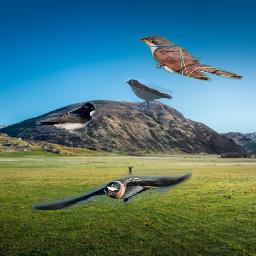Crow: (124, 78, 173, 110)
Cuckoo: (137, 33, 245, 85)
Swallow: (32, 169, 192, 210), (36, 102, 96, 135)
